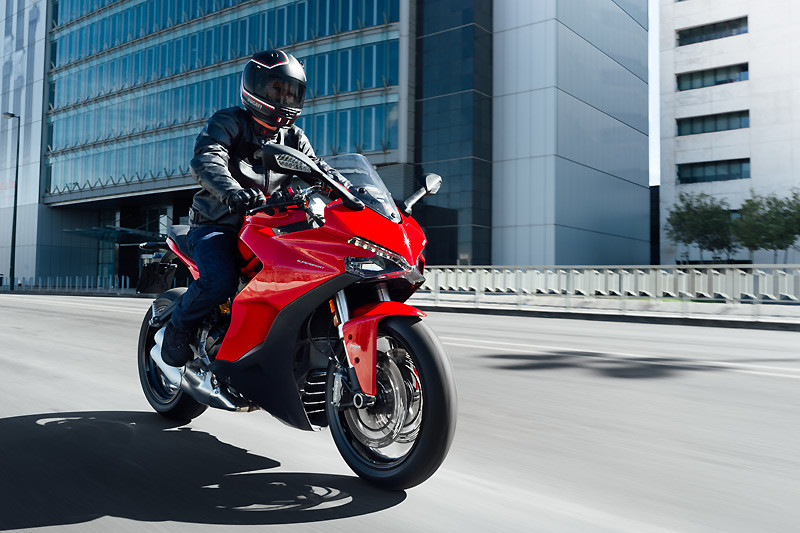helmet: (237, 42, 315, 123)
